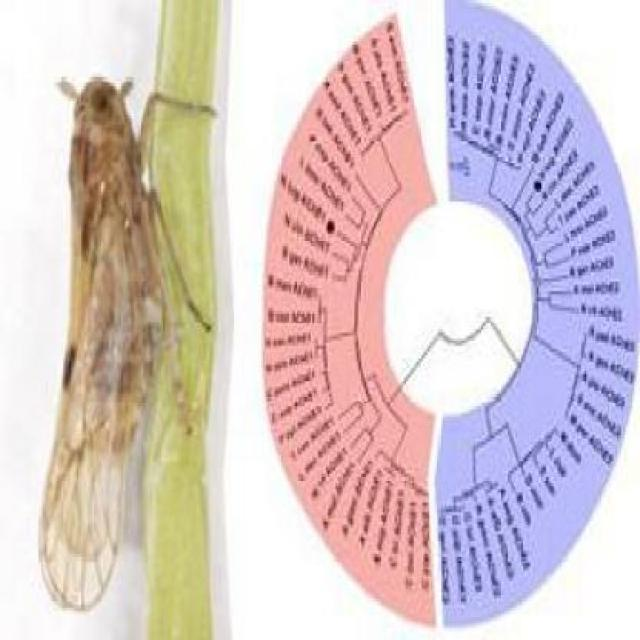brown-planthopper: (46, 59, 166, 618)
